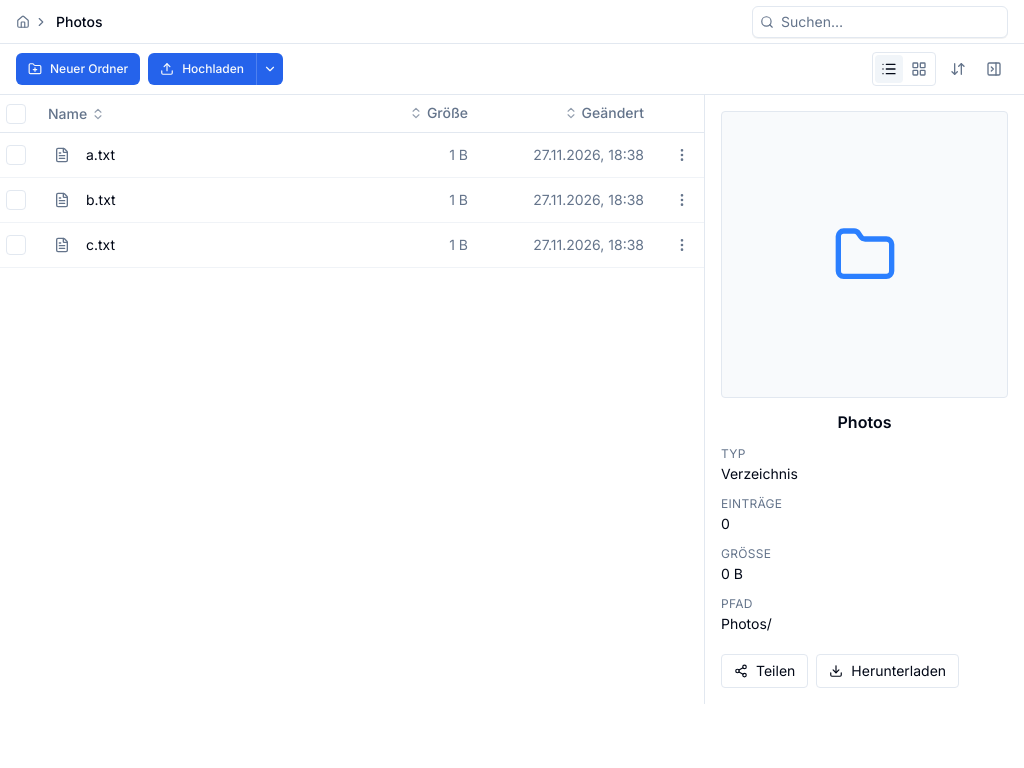
Test case: FilesPage — Multiselect (Bulk-Actions im Detail-Panel) › Detail-Panel zeigt Anzahl + Bulk-Buttons ab Mehrfach-Auswahl (>1)
Click the checkbox named "Auswählen a.txt".
click(16, 155)  # box [6, 145, 26, 165]
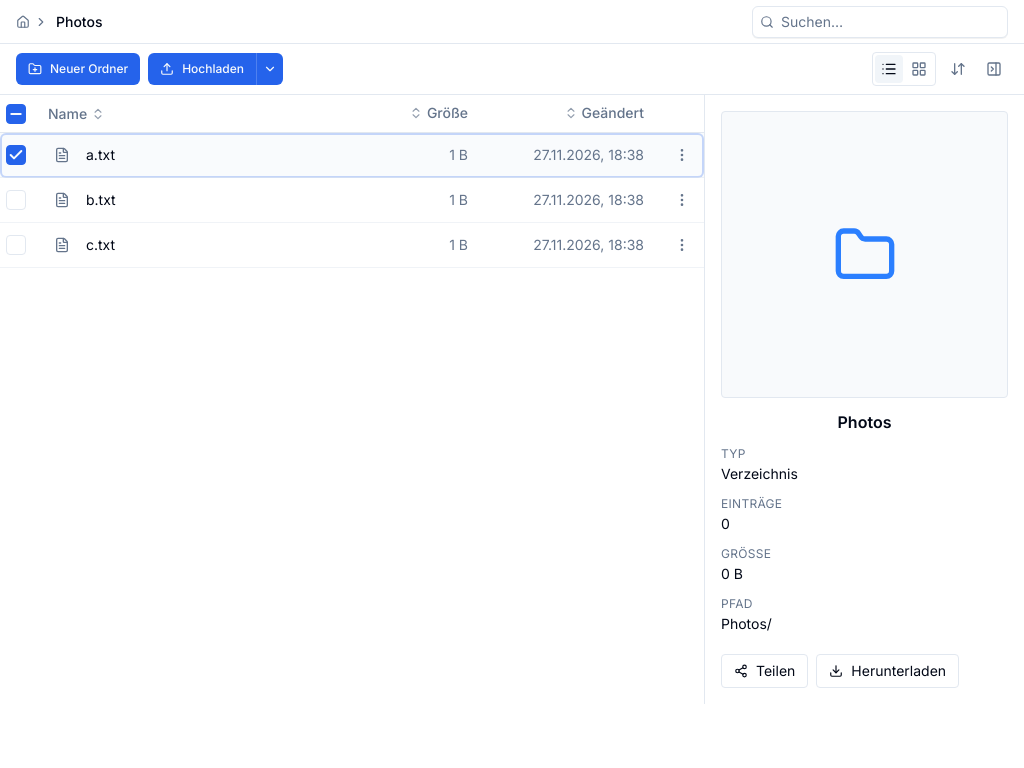
Click the checkbox named "Auswählen b.txt".
click(16, 200)  # box [6, 190, 26, 210]
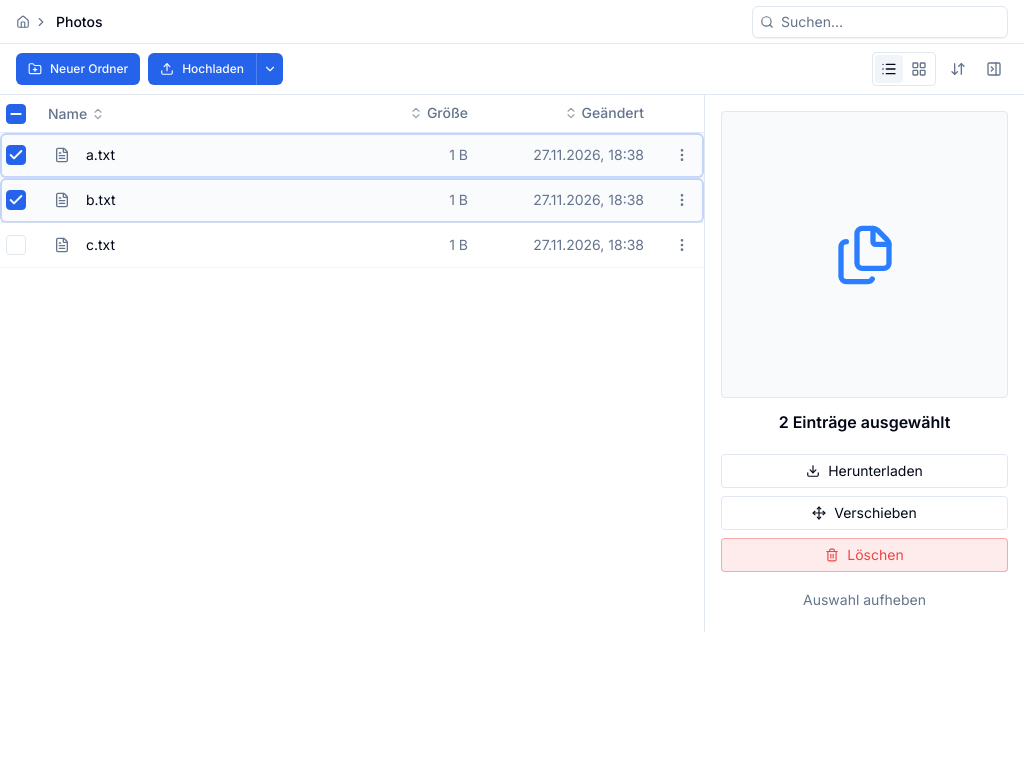
Check: the button "Herunterladen" is shown, box [721, 454, 1008, 488]
Check: the element with test id "detail-multi" shows "2 Einträge ausgewählt", box [779, 412, 950, 432]
